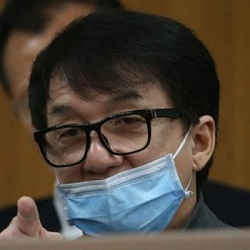mask: (53, 156, 187, 243)
